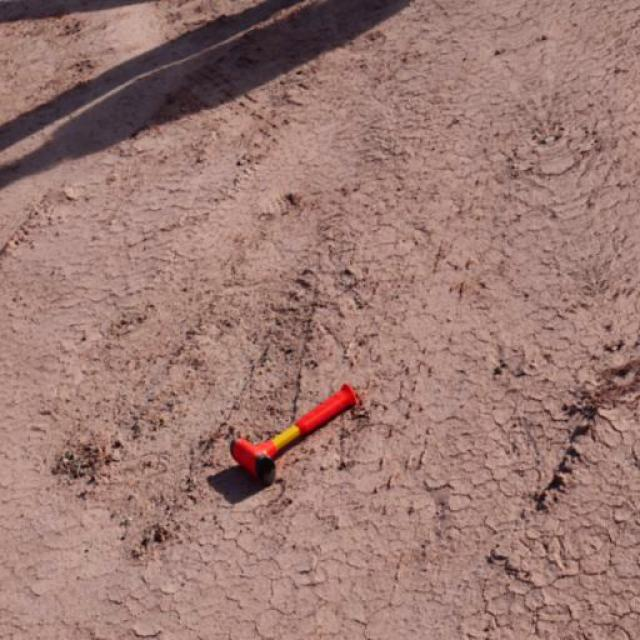mallet: (230, 382, 364, 486)
